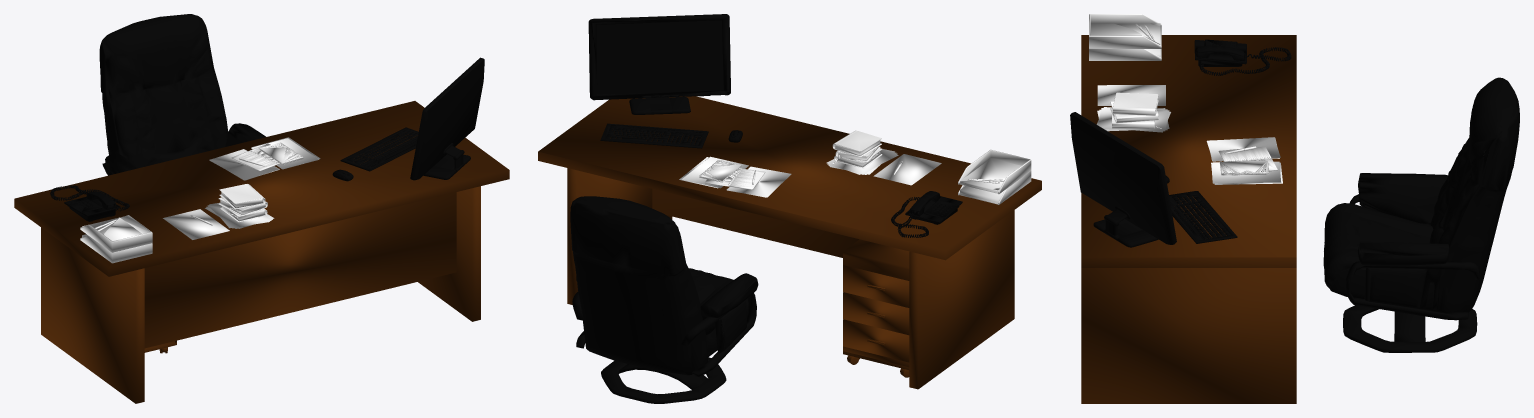
The model's file is office_desk.glb.
3 views of the same model, side by side, from view 1: azimuth 30°, elevation 25°; view 2: azimuth 150°, elevation 25°; view 3: azimuth 270°, elevation 25° (orthographic). The views are drawn at different scales.
Parts seen in each view (by area): view 1: Object_40, Object_2, Object_25, Object_3; view 2: Object_40, Object_2, Object_25, Object_3; view 3: Object_40, Object_2, Object_25, Object_3.
Boxes of the visible parts, left/top/right/bottom form: Object_40: left=14, top=101, right=509, bottom=403; Object_2: left=50, top=14, right=484, bottom=213; Object_25: left=80, top=137, right=320, bottom=263; Object_3: left=64, top=127, right=470, bottom=221; Object_40: left=538, top=96, right=1041, bottom=389; Object_2: left=570, top=14, right=959, bottom=403; Object_25: left=679, top=130, right=1031, bottom=204; Object_3: left=600, top=96, right=962, bottom=224; Object_40: left=1081, top=35, right=1296, bottom=403; Object_2: left=1070, top=39, right=1519, bottom=352; Object_25: left=1089, top=14, right=1282, bottom=184; Object_3: left=1093, top=40, right=1246, bottom=247.
Size of the model in its own units: 90.14 by 48.07 by 75.16.
